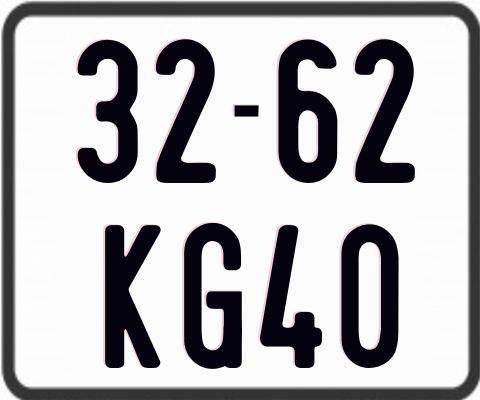0: (339, 223, 399, 371)
2: (155, 39, 218, 188), (352, 37, 414, 182)
3: (77, 38, 139, 182)
4: (260, 222, 326, 368)
6: (276, 38, 336, 186)
G: (184, 220, 244, 366)
K: (105, 224, 163, 369)
